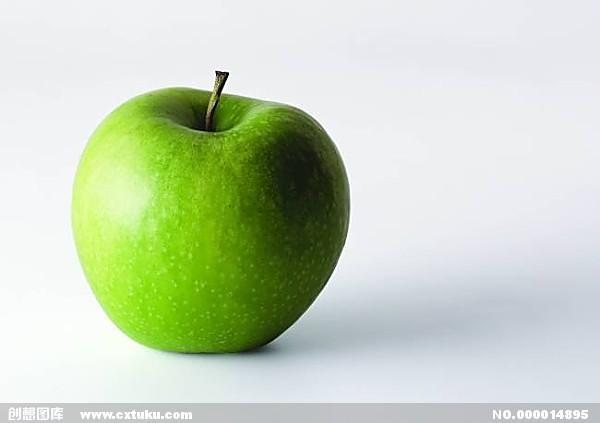apple: (72, 70, 352, 359)
